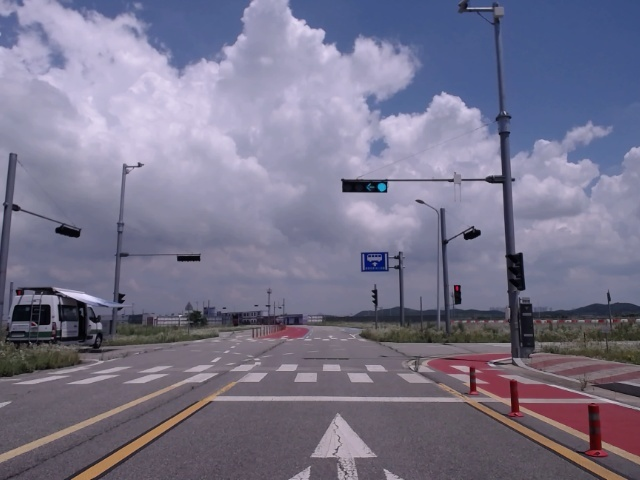all_green_4: (338, 178, 387, 193)
